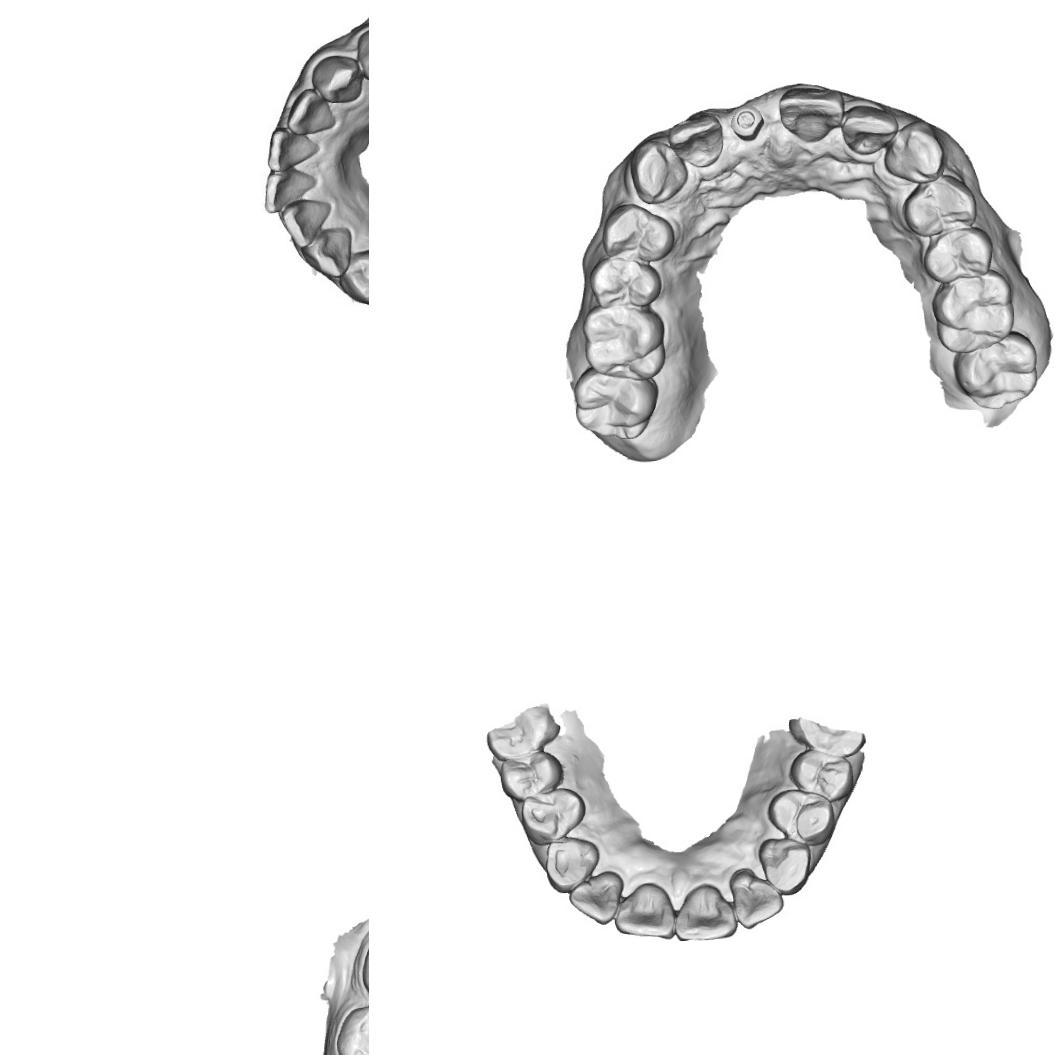canine: (881, 118, 946, 185), (627, 138, 689, 206), (544, 834, 602, 893), (757, 836, 813, 895), (310, 52, 365, 105), (305, 226, 356, 278)
implant: (728, 102, 765, 142)
incisor: (611, 882, 679, 943), (777, 84, 845, 144), (672, 882, 738, 941), (728, 866, 786, 929), (666, 111, 724, 170), (566, 868, 624, 926), (838, 102, 900, 156), (284, 86, 342, 139), (262, 167, 320, 216), (282, 199, 334, 252), (265, 126, 321, 173)
molar: (930, 268, 1015, 354), (952, 329, 1040, 411), (571, 363, 661, 442), (581, 302, 666, 382), (333, 1001, 369, 1055)
premolar: (900, 173, 979, 238), (600, 201, 676, 265), (920, 225, 994, 285), (766, 786, 836, 848), (588, 254, 663, 310), (520, 786, 587, 847), (787, 746, 855, 805), (499, 748, 565, 802), (338, 246, 369, 307), (353, 22, 369, 90)
